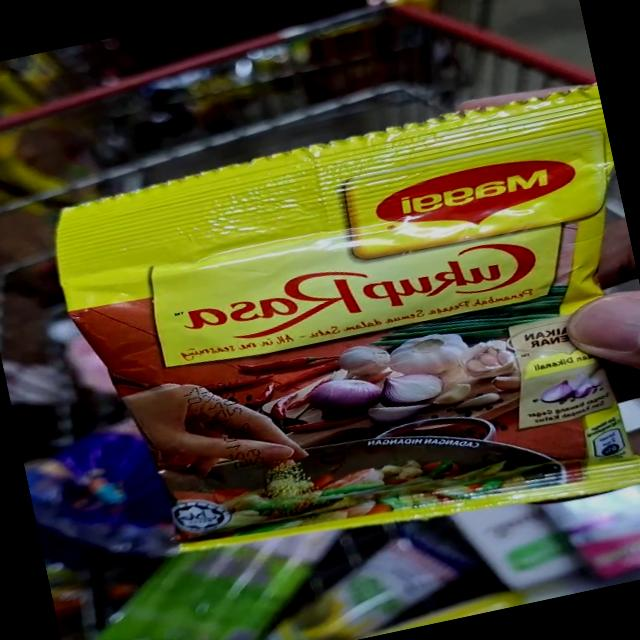Maggi Cukup Rasa: (44, 83, 640, 586)
